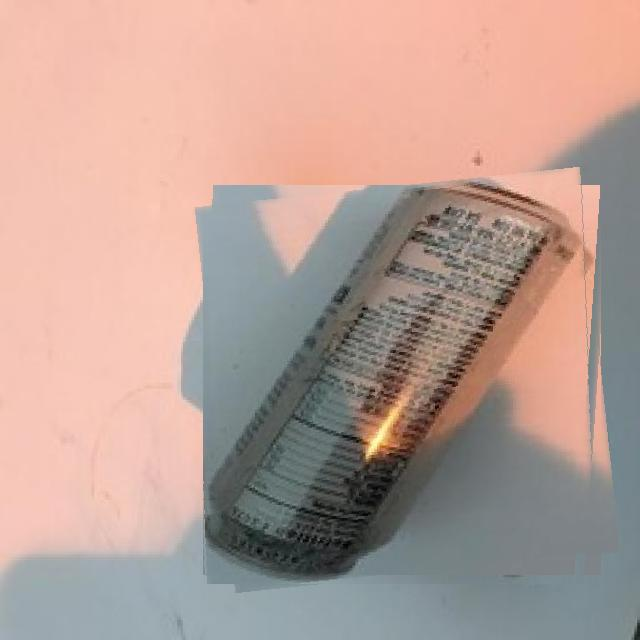recyclable: (203, 176, 611, 584)
